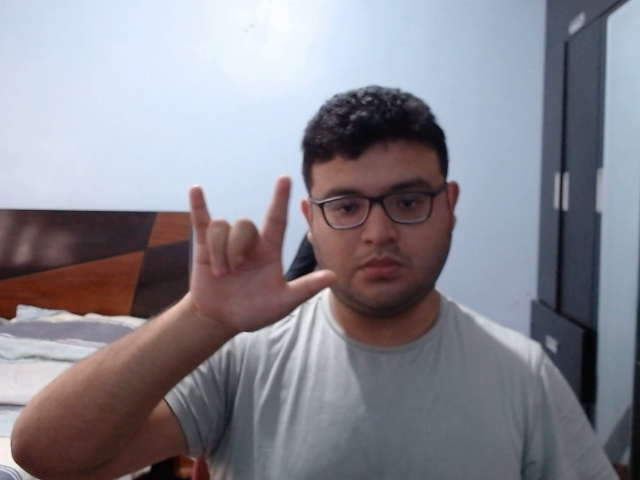I love you: (178, 172, 341, 343)
